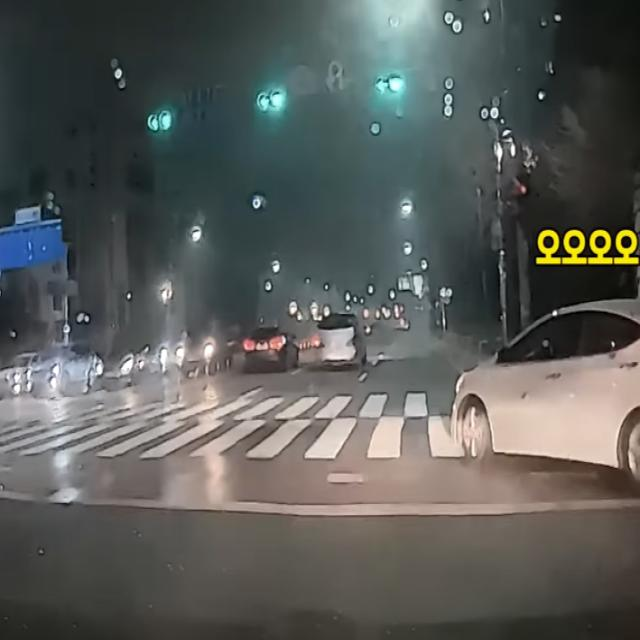Green Light: (270, 85, 287, 119), (389, 70, 405, 99), (160, 108, 172, 136)
